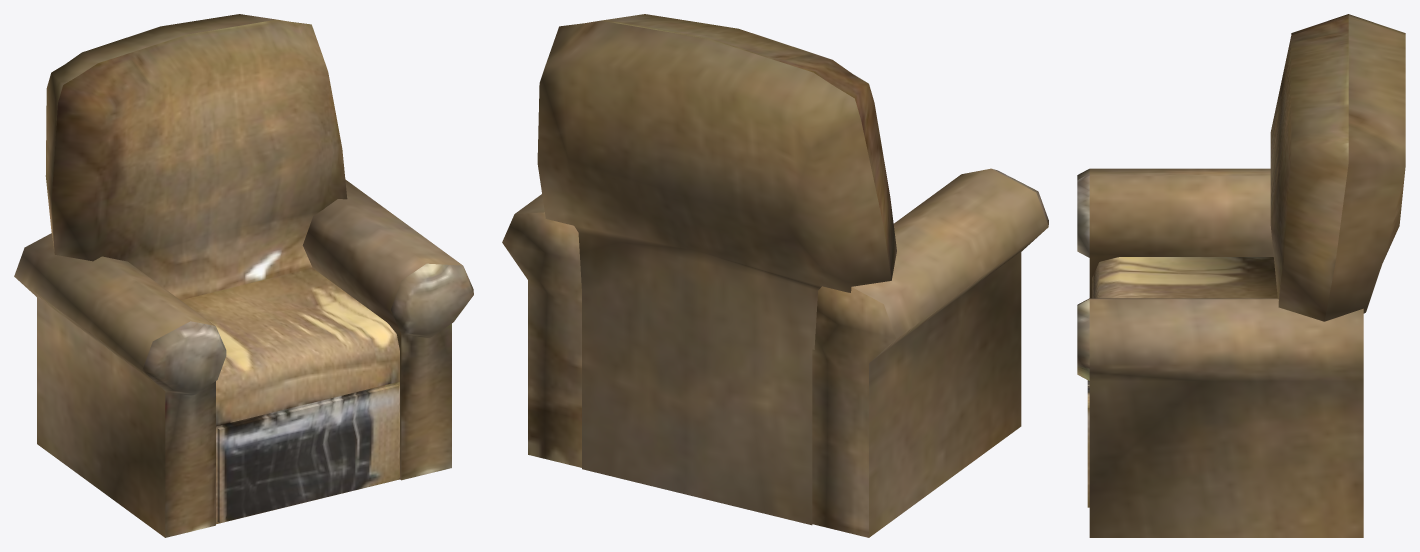
The model's file is roach_recliner.FBX.
3 views of the same model, side by side, from view 1: azimuth 30°, elevation 25°; view 2: azimuth 150°, elevation 25°; view 3: azimuth 270°, elevation 25° (orthographic). The views are drawn at different scales.
Parts seen in each view (by area): view 1: roach_recliner; view 2: roach_recliner; view 3: roach_recliner.
Boxes of the visible parts, x1,y1,x2,y2 form: roach_recliner: (14, 14, 473, 537); roach_recliner: (502, 14, 1048, 537); roach_recliner: (1077, 14, 1405, 537).
Size of the model in its own units: 80.08 by 87.68 by 64.28.
